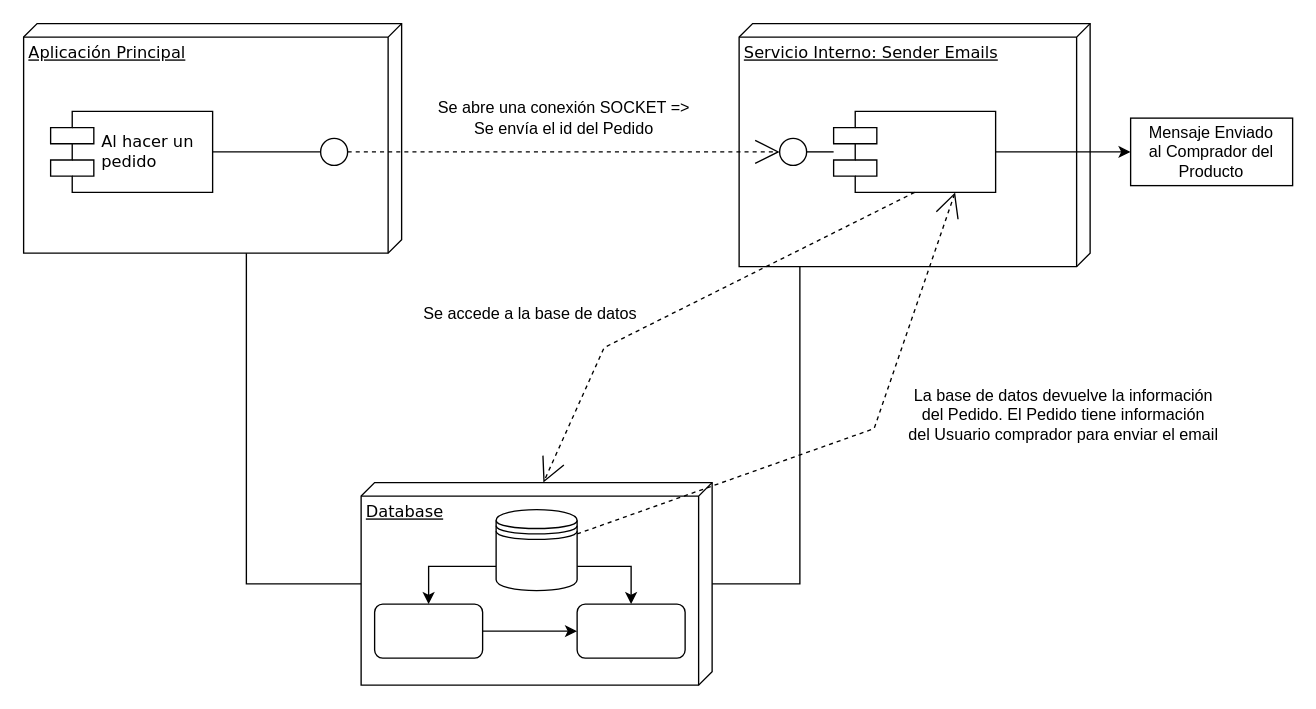
The diagram is 1316 pixels wide and 709 high, and some of its shapes have lost their labels. Here are the shapes that lost their labels. From the top down, the centre of each, then its label:
At (x=914, y=151): "Email Sender".
At (x=428, y=630): "Entidad: Pedido".
At (x=630, y=630): "Entidad: Usuario".
